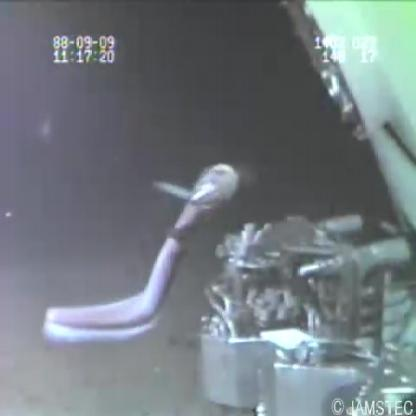Bio: (32, 157, 246, 353)
Rov: (191, 208, 413, 416)
